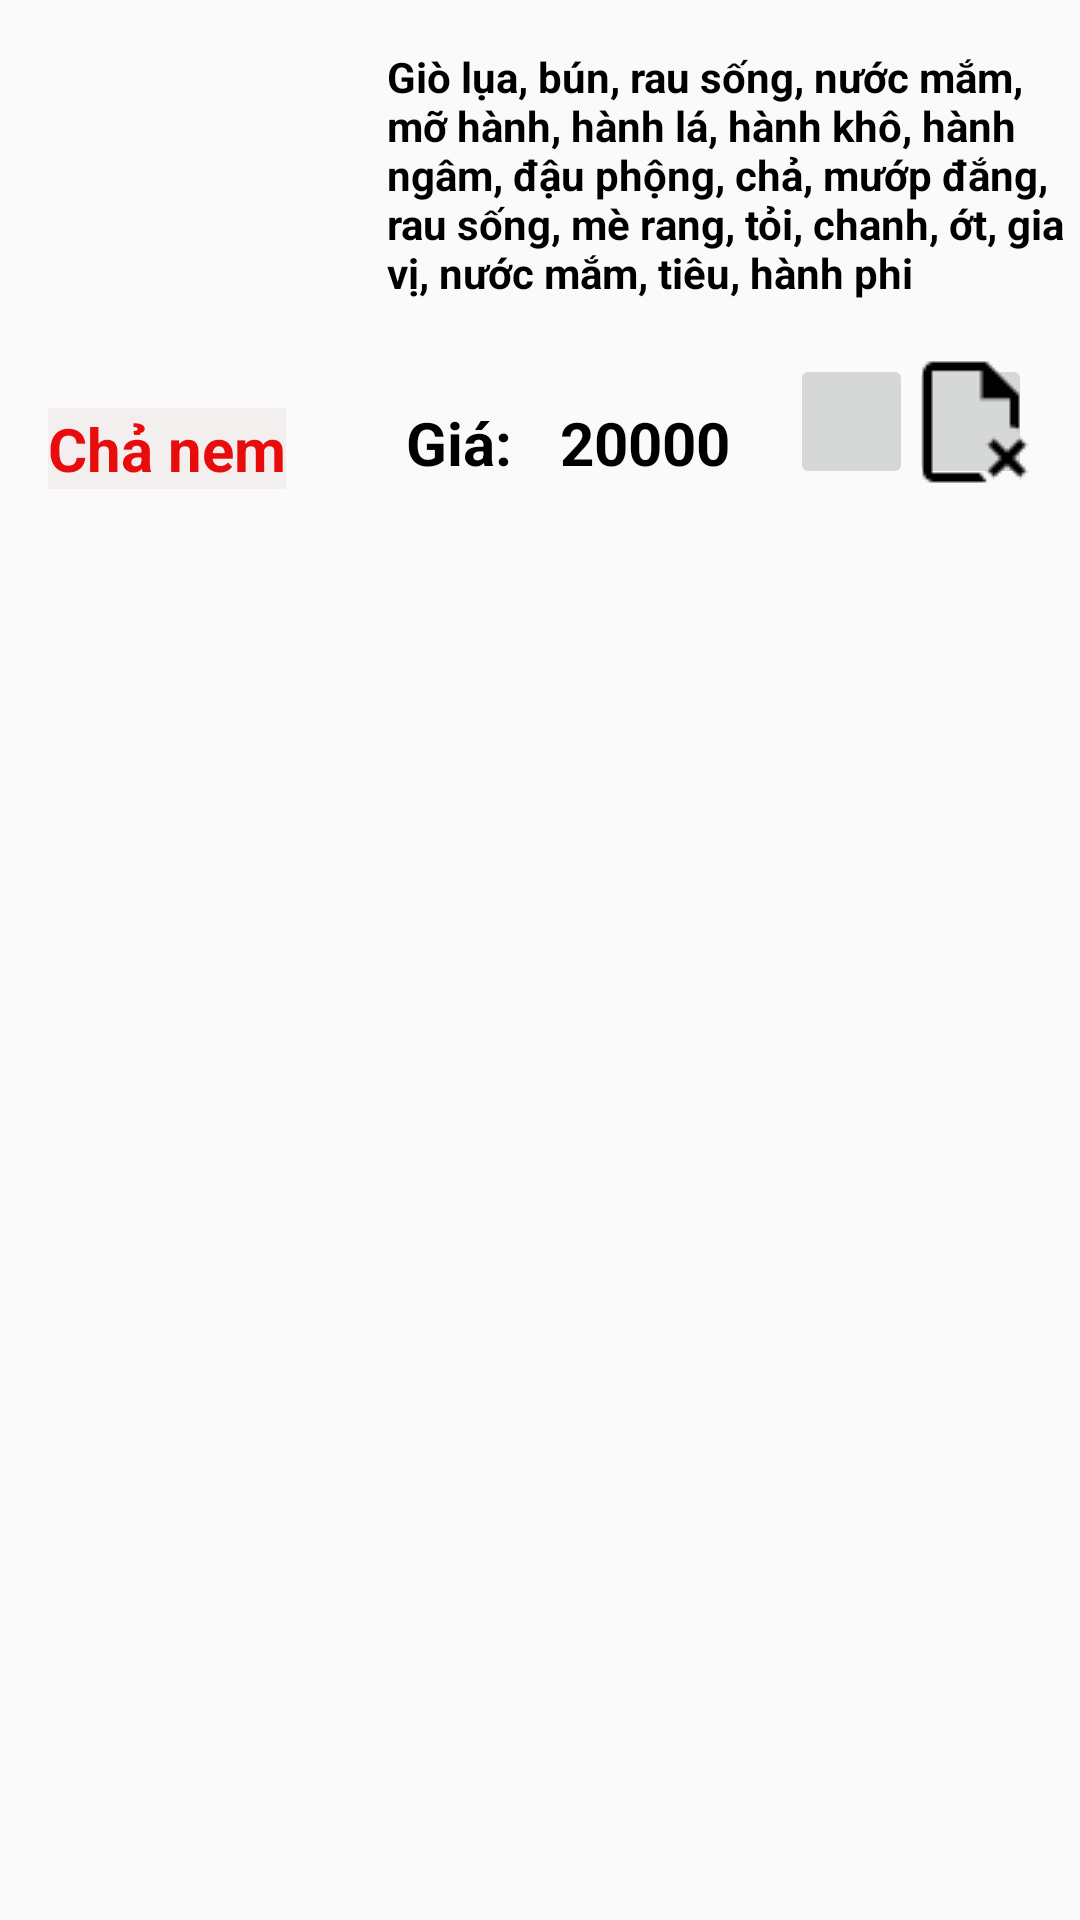

Locate icon controls on the screen. Image size 1080px x 1920px, boxes as (x1, y1, x2, y2).
scan delete: (921, 361, 1028, 483)
